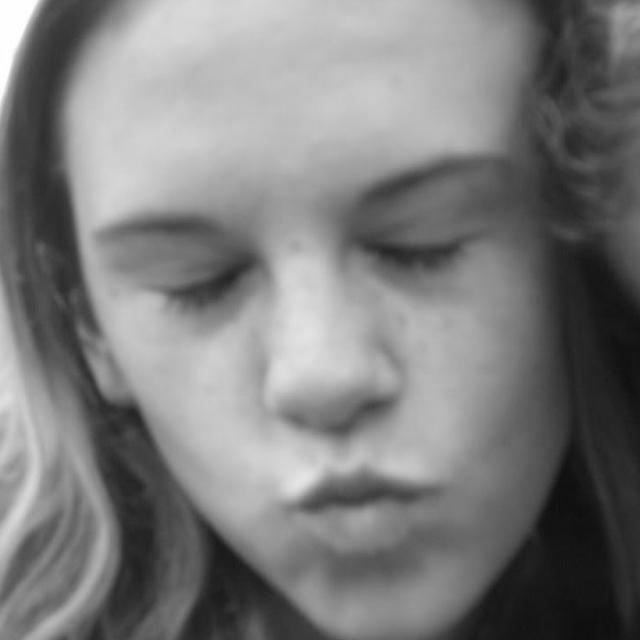real: (60, 3, 572, 640), (130, 207, 492, 319)
